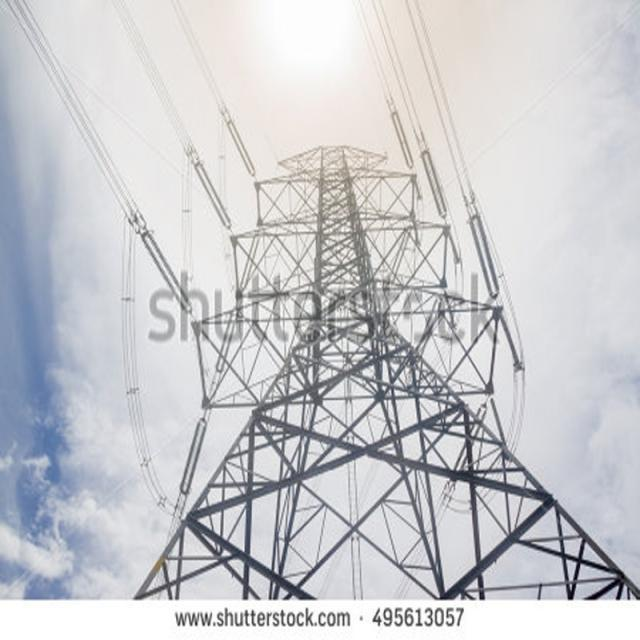non-critical vegetation: (131, 144, 627, 606)
